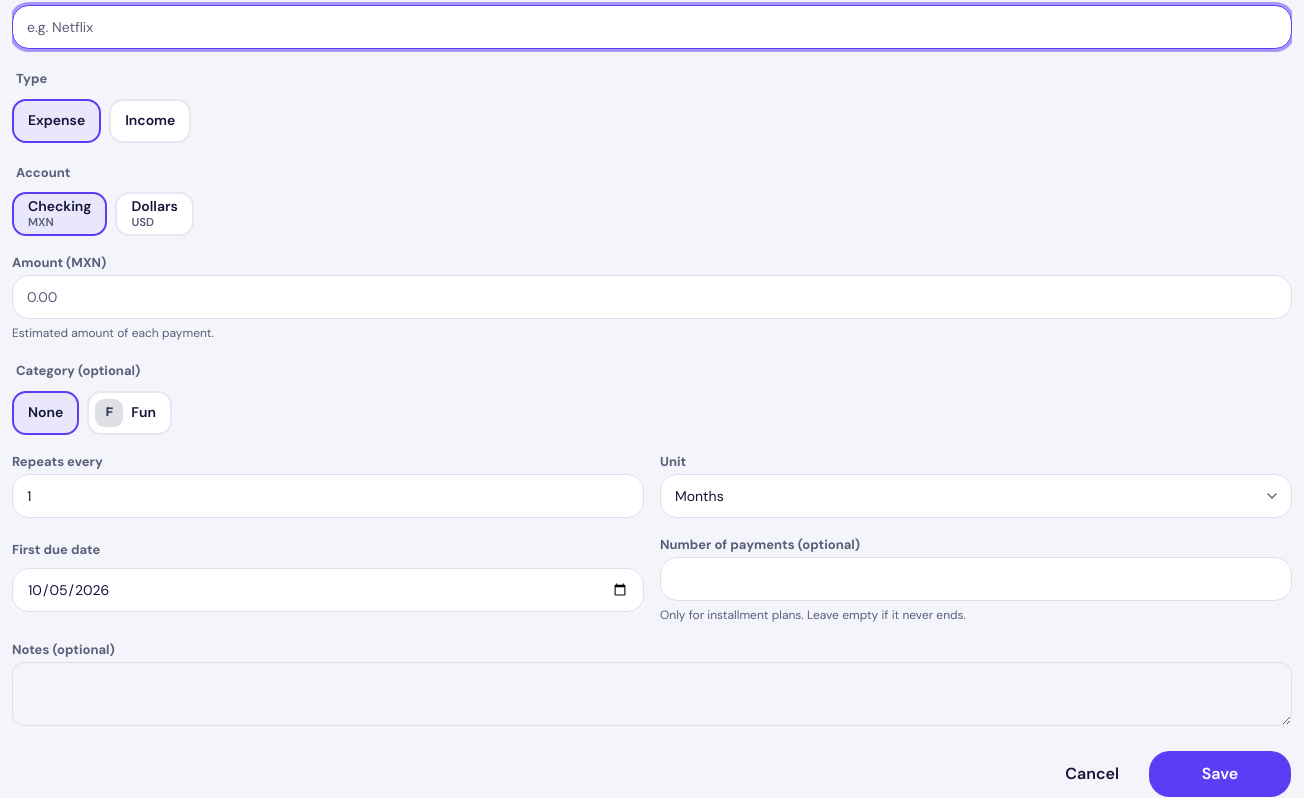
Test: RecurringForm › shows field errors and the API message
(page scrolled)
Click the button "Save": (1220, 774) [1148,750,1292,797]
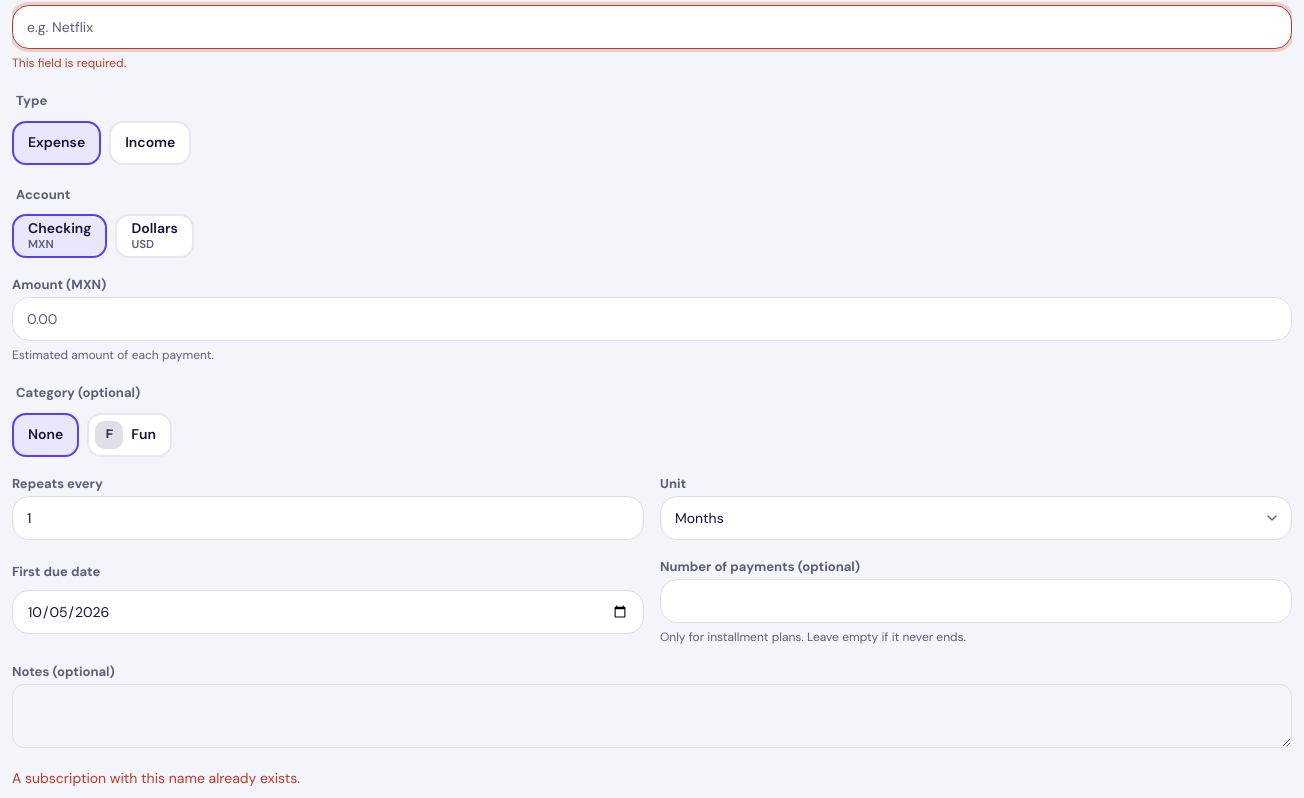
Expected: the text "This field is required." is shown, [12,55,126,71]
Expected: the text "A subscription with this name already exists." is shown, [12,768,300,786]
